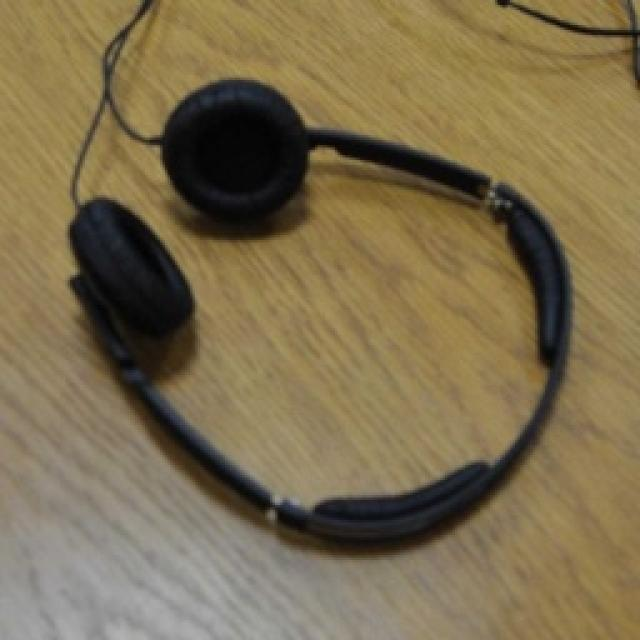headphones: (65, 0, 572, 542)
